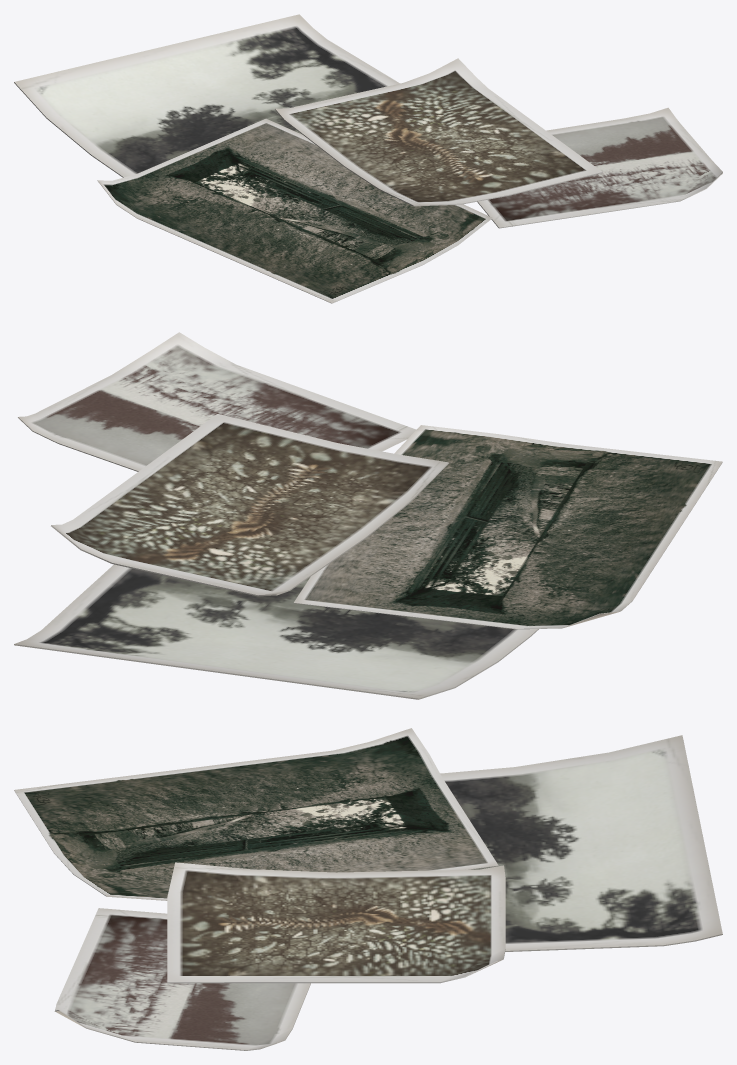
File: Picture_Pile_2.FBX
3 renders of one model, top to bottom at view 1: azimuth 30°, elevation 25°; view 2: azimuth 150°, elevation 25°; view 3: azimuth 270°, elevation 25°, orthographic. The views are drawn at different scales.
Visible parts, largest first — view 1: Picture_Pile_2; view 2: Picture_Pile_2; view 3: Picture_Pile_2.
Part boxes in pixels (x1,y1,x2,y2): Picture_Pile_2: (14, 14, 722, 303); Picture_Pile_2: (14, 332, 722, 699); Picture_Pile_2: (14, 728, 722, 1050).
Size of the model in its own units: 58.04 by 2.93 by 57.73.
